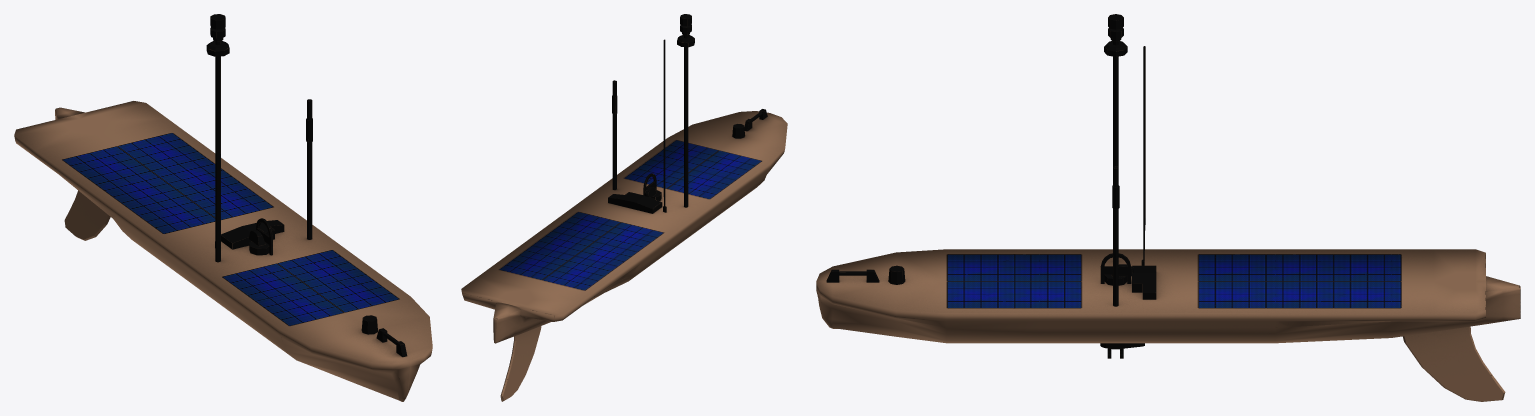
Rendered from Wave Glider-Float.dae.
3 renders of one model, left to right at view 1: azimuth 30°, elevation 25°; view 2: azimuth 150°, elevation 25°; view 3: azimuth 270°, elevation 25°, orthographic. The views are drawn at different scales.
Parts seen in each view (by area): view 1: WaveGlider; view 2: WaveGlider; view 3: WaveGlider.
Part boxes in pixels (<box>): WaveGlider: <box>14,14,432,401</box>; WaveGlider: <box>461,14,787,401</box>; WaveGlider: <box>816,14,1520,401</box>.
Size of the model in its own units: 0.6588 by 3.05 by 1.74.
